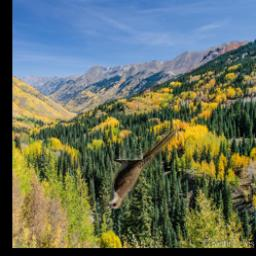Cuckoo: (104, 129, 177, 209)
